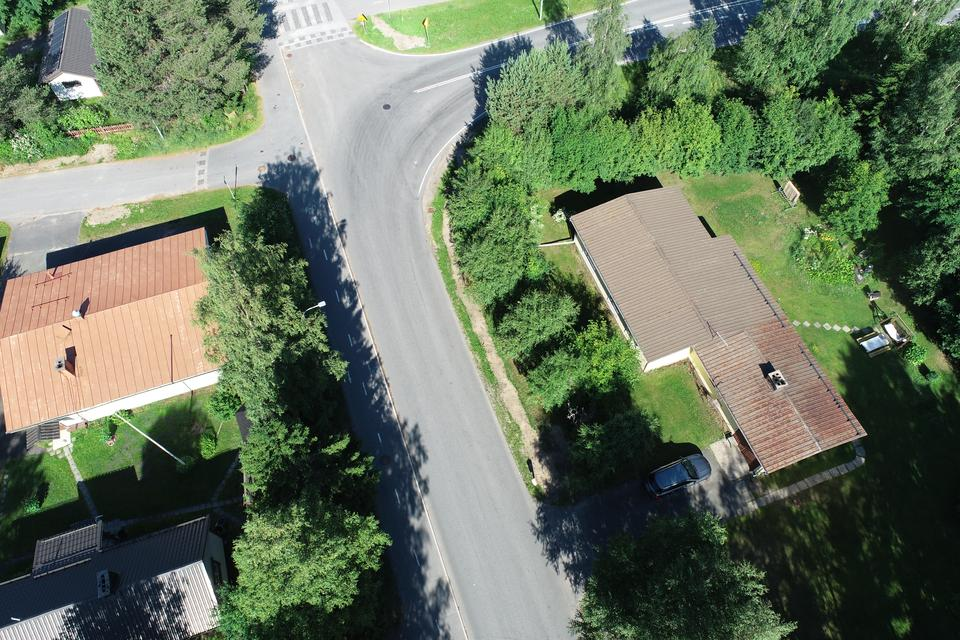intersection: (186, 47, 504, 235), (212, 0, 464, 34)
